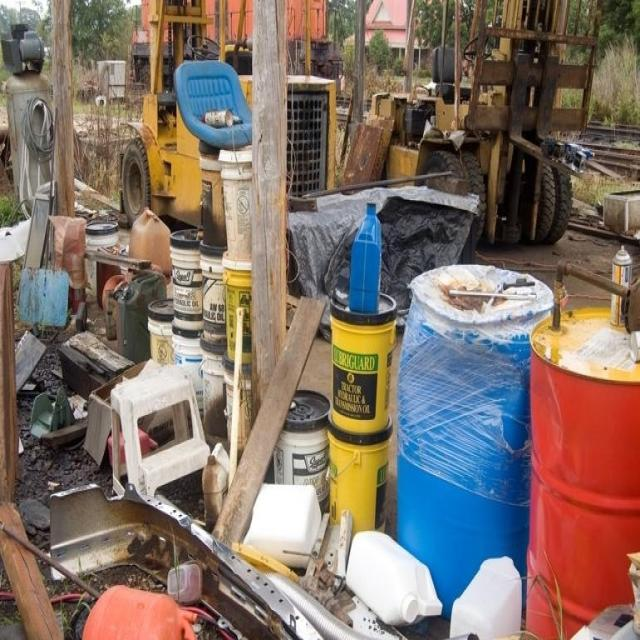Metal: (40, 483, 279, 598)
Plastics: (399, 258, 527, 640), (99, 178, 226, 486), (288, 279, 391, 575)
can: (534, 293, 640, 630)
